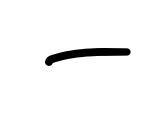minus: (45, 47, 131, 66)
